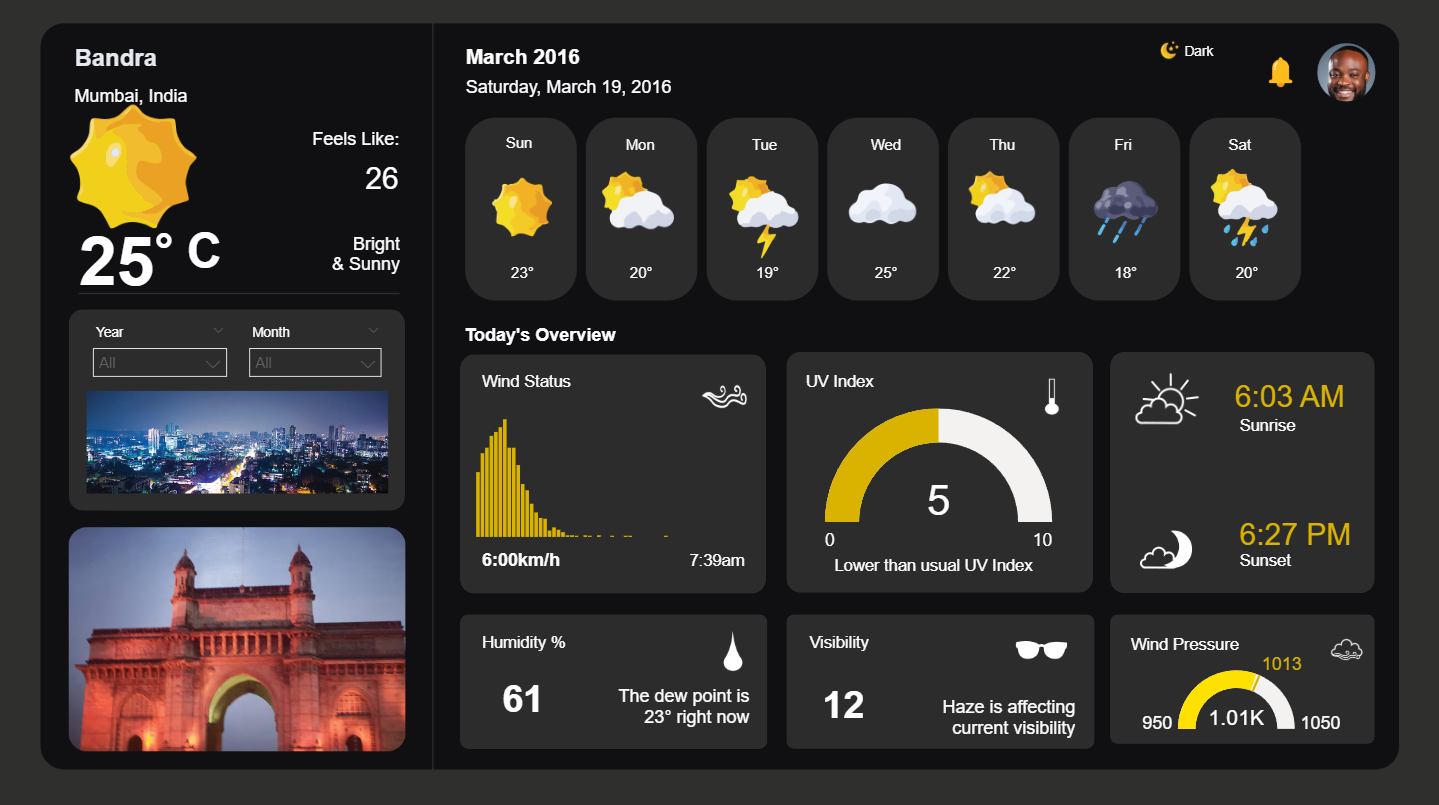

Layout of this report page (visuals, bound fields, positions):
{"tool":"powerbi","page":{"name":"India Climate Main Dashboard","canvas":[1280,720],"ordinal":1},"visuals":[{"type":"image","box":[0,0,1280.2,719.8],"z":0},{"type":"image","box":[423.3,152.3,81.4,67.4],"z":1000},{"type":"image","box":[525.6,141.9,82.6,75.6],"z":2000},{"type":"image","box":[639.5,152.3,82.6,86],"z":3000},{"type":"image","box":[1023.3,32.6,32.6,27.9],"z":4000},{"type":"textbox","box":[1047.7,32.6,53.5,27.9],"z":5000},{"type":"image","box":[1062.8,143,87.2,87.2],"z":6000},{"type":"textbox","box":[444.7,114.6,36.8,37.9],"z":7000},{"type":"image","box":[740.7,143,87.2,74.4],"z":8000},{"type":"image","box":[961.6,153.5,77.9,76.7],"z":9000},{"type":"image","box":[56.1,86.5,125,129.8],"z":10000},{"type":"image","box":[852.3,141.9,76.7,70.9],"z":11000},{"type":"textbox","box":[445.4,230.2,37.2,33.7],"z":12000},{"type":"textbox","box":[551.2,230.2,36,33.7],"z":13000},{"type":"textbox","box":[768.6,230.2,40.7,33.7],"z":14000},{"type":"textbox","box":[662.8,230.2,38.4,33.7],"z":15000},{"type":"textbox","box":[409.3,37.2,273.3,45.3],"z":16000},{"type":"textbox","box":[61.6,37.2,273.3,46.5],"z":17000},{"type":"textbox","box":[409.3,65.1,283.7,34.9],"z":18000},{"type":"textbox","box":[61.6,73.3,112.8,41.9],"z":19000},{"type":"textbox","box":[60.9,195.4,165,105.7],"z":20000},{"type":"textbox","box":[246.5,204.7,114,46.5],"z":21000},{"type":"textbox","box":[408.1,286,273.3,30.2],"z":22000},{"type":"textbox","box":[874.4,230.2,34.9,33.7],"z":23000},{"type":"textbox","box":[986,230.2,37.2,33.7],"z":24000},{"type":"textbox","box":[551.2,115.1,36,48.8],"z":25000},{"type":"textbox","box":[662.8,115.1,38.4,39.5],"z":26000},{"type":"textbox","box":[768.6,115.1,40.7,48.8],"z":27000},{"type":"textbox","box":[874.4,115.1,43,59.3],"z":28000},{"type":"textbox","box":[986,115.1,37.2,30.2],"z":29000},{"type":"textbox","box":[1083.7,115.1,34.9,40.7],"z":30000},{"type":"textbox","box":[1093,230.2,38.4,33.7],"z":31000},{"type":"shape","box":[61.6,276.7,298.8,179.1],"z":32000},{"type":"image","box":[61.6,419.8,298.8,300],"z":33000},{"type":"slicer","fields":{"Values":["Weather_Dashboard_Cleaned.Year"]},"box":[72.1,286,139.5,58.1],"z":34000},{"type":"slicer","fields":{"Values":["SunriseSunset_Table.Month"]},"box":[211.6,286,138.4,58.1],"z":35000},{"type":"image","box":[72.1,344.2,277.9,101.2],"z":36000},{"type":"shape","box":[409.3,316.3,272.1,212.8],"z":37000},{"type":"shape","box":[409.3,547.7,273.3,119.8],"z":38000},{"type":"textbox","box":[608,485.6,62.6,33.4],"z":39000},{"type":"textbox","box":[423,485.6,143.3,33.4],"z":40000},{"type":"textbox","box":[423,327,164.2,39],"z":41000},{"type":"clusteredColumnChart","fields":{"Category":["Weather_Dashboard_Cleaned.Wind Speed (km/h) (bins)"],"Y":["CountNonNull(Weather_Dashboard_Cleaned.Wind Speed (km/h))"]},"box":[417.4,360.3,253.2,125.2],"z":42000},{"type":"shape","box":[698.4,314.4,272.7,214.3],"z":43000},{"type":"shape","box":[698.4,548.2,274.1,119.7],"z":44000},{"type":"card","fields":{"Values":["SunriseSunset_Table.Feels Like (°C)"]},"box":[303.3,139.1,57,43.1],"z":45000},{"type":"textbox","box":[256,111.3,104.3,34.8],"z":46000},{"type":"card","fields":{"Values":["Avg(Weather_Dashboard_Cleaned.Humidity (%))"]},"box":[426.1,589.5,76.9,64.1],"z":47000},{"type":"card","fields":{"Values":["Avg(Weather_Dashboard_Cleaned.Mean Temperature (°C))"]},"box":[48.1,179.4,112.1,100.9],"z":48000},{"type":"card","fields":{"Values":["SunriseSunset_Table.Visibility (km)"]},"box":[714.5,602.4,70.5,51.3],"z":49000},{"type":"textbox","box":[422.9,559.1,174.6,30.4],"z":50000},{"type":"textbox","box":[525.5,607.2,145.8,46.5],"z":51000},{"type":"image","box":[624.8,547.9,56.1,65.7],"z":52000},{"type":"textbox","box":[788.2,616.8,173,46.5],"z":53000},{"type":"textbox","box":[714.5,559.1,121.8,43.3],"z":54000},{"type":"image","box":[874.7,552.7,102.5,57.7],"z":55000},{"type":"shape","box":[986.8,314,235.5,214.7],"z":56000},{"type":"shape","box":[986.8,547.9,235.5,115.3],"z":57000},{"type":"gauge","fields":{"Y":["SunriseSunset_Table.UV Index"]},"box":[711.3,360.5,246.7,142.6],"z":58000},{"type":"textbox","box":[711.3,326.8,125,33.6],"z":59000},{"type":"textbox","box":[736.9,490.2,195.4,28.8],"z":60000},{"type":"gauge","fields":{"Y":["Weather_Dashboard_Cleaned.Avg Mean Pressure (hPa)"],"MinValue":["Weather_Dashboard_Cleaned.Min Pressure"],"MaxValue":["Weather_Dashboard_Cleaned.Max Pressure"],"TargetValue":["Weather_Dashboard_Cleaned.Target Pressure"]},"box":[996.2,569.6,213.9,89.9],"z":61000},{"type":"textbox","box":[1000,559.5,210.1,30.4],"z":61001},{"type":"image","box":[910.1,322.8,48.1,63.3],"z":61002},{"type":"image","box":[617.7,326.6,51.9,55.7],"z":61003},{"type":"image","box":[1170.9,558.2,51.9,44.3],"z":61004},{"type":"card","fields":{"Values":["SunriseSunset_Table.Avg Sunset Time"]},"box":[1092.4,455.7,119,43],"z":61006},{"type":"image","box":[989.9,322.8,93.7,72.2],"z":61007},{"type":"card","fields":{"Values":["SunriseSunset_Table.Avg Sunrise Time"]},"box":[1083.5,335.4,126.6,38],"z":61008},{"type":"textbox","box":[1096.2,365.8,108.9,31.6],"z":61009},{"type":"textbox","box":[1096.2,486.1,119,38],"z":61010},{"type":"image","box":[1003.8,460.8,65.8,58.2],"z":61011}]}

Visuals, with their boxes in screenshot pixels (x1, y1, x2, y2), scaled from the page's 1280x720 canvas onto the 1439x805 screenshot:
image: BBox(0, 0, 1438, 804)
image: BBox(476, 170, 567, 246)
image: BBox(591, 159, 684, 243)
image: BBox(719, 170, 812, 266)
image: BBox(1150, 36, 1187, 68)
textbox: BBox(1178, 36, 1238, 68)
image: BBox(1195, 160, 1293, 257)
textbox: BBox(500, 128, 541, 171)
image: BBox(833, 160, 931, 243)
image: BBox(1081, 172, 1169, 257)
image: BBox(63, 97, 204, 242)
image: BBox(958, 159, 1044, 238)
textbox: BBox(501, 257, 543, 295)
textbox: BBox(620, 257, 660, 295)
textbox: BBox(864, 257, 910, 295)
textbox: BBox(745, 257, 788, 295)
textbox: BBox(460, 42, 767, 92)
textbox: BBox(69, 42, 377, 94)
textbox: BBox(460, 73, 779, 112)
textbox: BBox(69, 82, 196, 129)
textbox: BBox(68, 218, 254, 337)
textbox: BBox(277, 229, 405, 281)
textbox: BBox(459, 320, 766, 354)
textbox: BBox(983, 257, 1022, 295)
textbox: BBox(1108, 257, 1150, 295)
textbox: BBox(620, 129, 660, 183)
textbox: BBox(745, 129, 788, 173)
textbox: BBox(864, 129, 910, 183)
textbox: BBox(983, 129, 1031, 195)
textbox: BBox(1108, 129, 1150, 162)
textbox: BBox(1218, 129, 1258, 174)
textbox: BBox(1229, 257, 1272, 295)
shape: BBox(69, 309, 405, 510)
image: BBox(69, 469, 405, 804)
slicer - Weather_Dashboard_Cleaned.Year: BBox(81, 320, 238, 385)
slicer - SunriseSunset_Table.Month: BBox(238, 320, 393, 385)
image: BBox(81, 385, 393, 498)
shape: BBox(460, 354, 766, 592)
shape: BBox(460, 612, 767, 746)
textbox: BBox(684, 543, 754, 580)
textbox: BBox(476, 543, 637, 580)
textbox: BBox(476, 366, 660, 409)
clusteredColumnChart - Weather_Dashboard_Cleaned.Wind Speed (km/h) (bins) x CountNonNull(Weather_Dashboard_Cleaned.Wind Speed (km/h)): BBox(469, 403, 754, 543)
shape: BBox(785, 352, 1092, 591)
shape: BBox(785, 613, 1093, 747)
card - SunriseSunset_Table.Feels Like (°C): BBox(341, 156, 405, 204)
textbox: BBox(288, 124, 405, 163)
card - Avg(Weather_Dashboard_Cleaned.Humidity (%)): BBox(479, 659, 565, 731)
card - Avg(Weather_Dashboard_Cleaned.Mean Temperature (°C)): BBox(54, 201, 180, 313)
card - SunriseSunset_Table.Visibility (km): BBox(803, 674, 883, 731)
textbox: BBox(475, 625, 672, 659)
textbox: BBox(591, 679, 755, 731)
image: BBox(702, 613, 765, 686)
textbox: BBox(886, 690, 1081, 742)
textbox: BBox(803, 625, 940, 674)
image: BBox(983, 618, 1099, 682)
shape: BBox(1109, 351, 1374, 591)
shape: BBox(1109, 613, 1374, 741)
gauge - SunriseSunset_Table.UV Index: BBox(800, 403, 1077, 562)
textbox: BBox(800, 365, 940, 403)
textbox: BBox(828, 548, 1048, 580)
gauge - Weather_Dashboard_Cleaned.Avg Mean Pressure (hPa) x Weather_Dashboard_Cleaned.Min Pressure: BBox(1120, 637, 1360, 737)
textbox: BBox(1124, 626, 1360, 660)
image: BBox(1023, 361, 1077, 432)
image: BBox(694, 365, 753, 427)
image: BBox(1316, 624, 1375, 674)
card - SunriseSunset_Table.Avg Sunset Time: BBox(1228, 509, 1362, 558)
image: BBox(1113, 361, 1218, 442)
card - SunriseSunset_Table.Avg Sunrise Time: BBox(1218, 375, 1360, 417)
textbox: BBox(1232, 409, 1355, 444)
textbox: BBox(1232, 543, 1366, 586)
image: BBox(1128, 515, 1202, 580)
